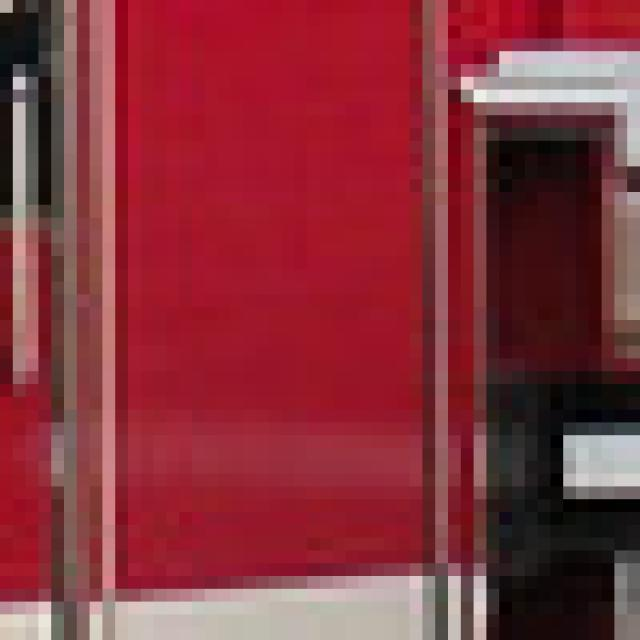no_fire: (11, 7, 640, 628)
